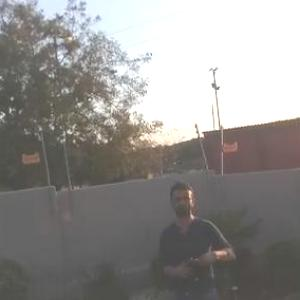follow: (152, 171, 243, 299)
